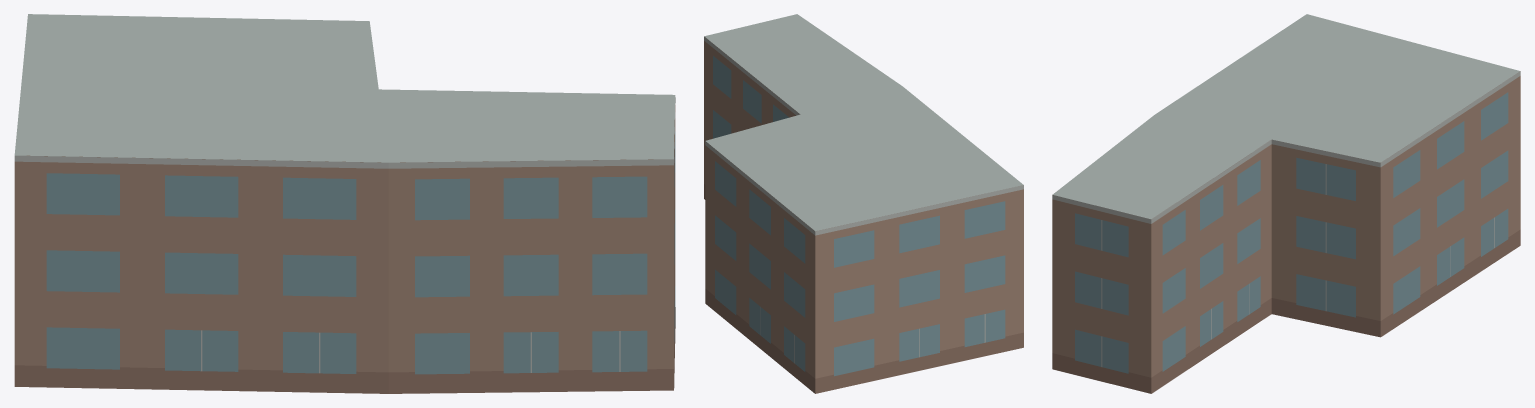
File: survey-upis-32468897.glb
3 views of the same model, side by side, from view 1: azimuth 30°, elevation 25°; view 2: azimuth 150°, elevation 25°; view 3: azimuth 270°, elevation 25° (orthographic). The views are drawn at different scales.
Parts seen in each view (by area): view 1: survey-upis-32468897.tmp; view 2: survey-upis-32468897.tmp; view 3: survey-upis-32468897.tmp.
Part boxes in pixels (x1,y1,x2,y2): survey-upis-32468897.tmp: (14,14,675,393); survey-upis-32468897.tmp: (704,14,1023,393); survey-upis-32468897.tmp: (1052,14,1520,393).
Bounding box in the file's own units: 23.1 × 9.15 × 22.25.
